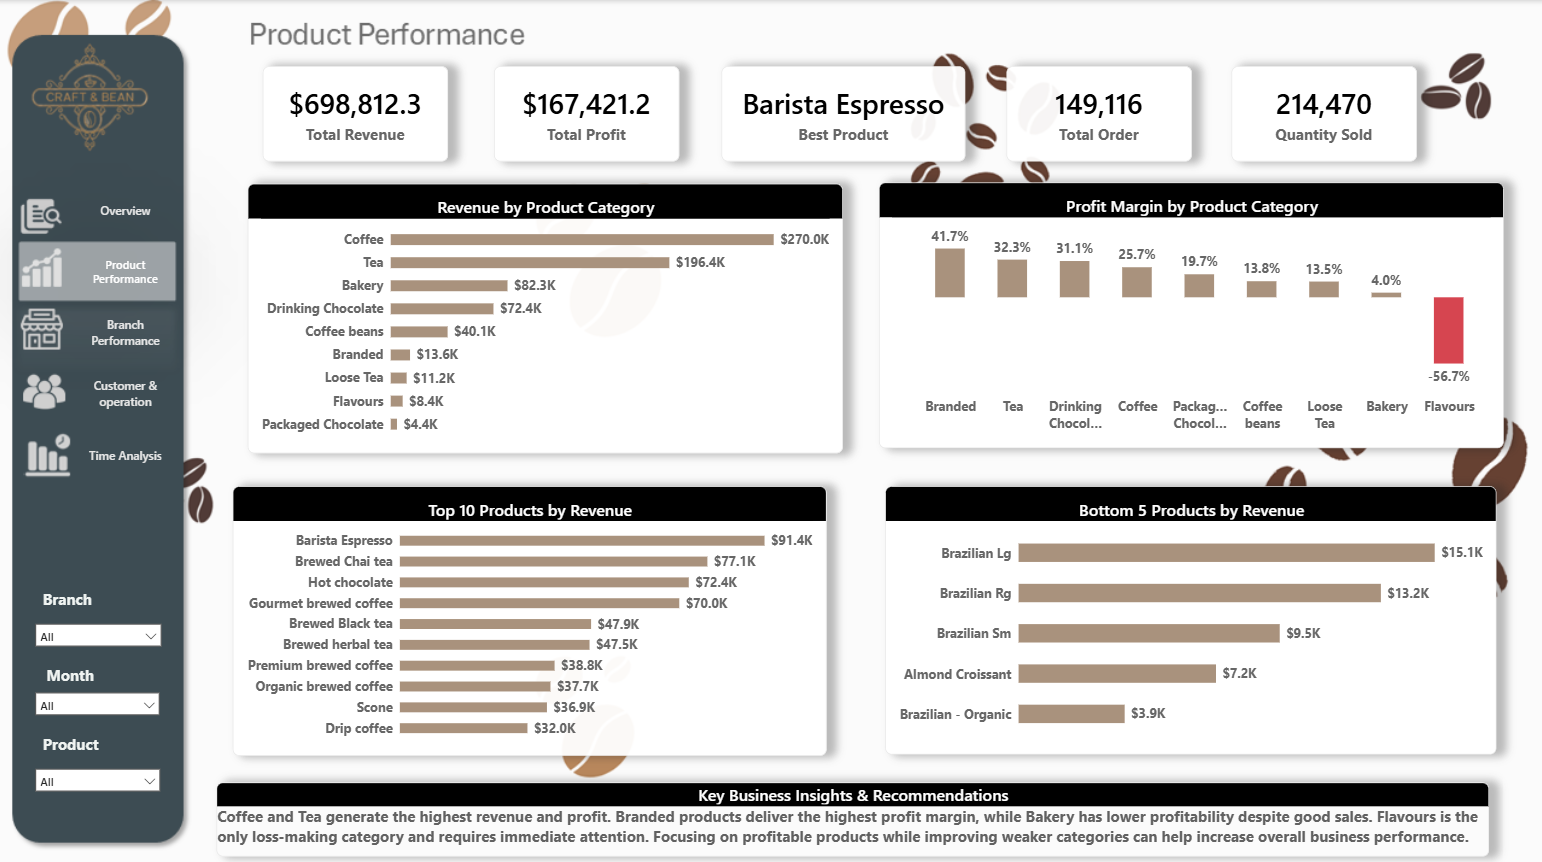

The dashboard page shown, as its layout file describes it:
{"tool":"powerbi","page":{"name":"Product Performance","canvas":[1920,1080],"ordinal":1},"visuals":[{"type":"textbox","box":[58.4,826.7,69.3,30.3],"z":0},{"type":"slicer","fields":{"Values":["coffee_sales.Month Name"]},"box":[41.1,857,164.5,43.3],"z":1000},{"type":"slicer","fields":{"Values":["coffee_sales.product_detail"]},"box":[40.8,951,165,44.2],"z":2000},{"type":"textbox","box":[54.4,911.9,103.8,27.2],"z":3000},{"type":"slicer","fields":{"Values":["coffee_sales.Branch_name"]},"box":[41.1,770.4,166.6,41.1],"z":4000},{"type":"textbox","box":[54.4,731.6,78.3,39.1],"z":5000},{"type":"pageNavigator","box":[91.9,228,131,374.3],"z":6000},{"type":"card","fields":{"Values":["Min(coffee_sales.product_type)"]},"box":[898.3,81.7,303.3,118.3],"z":7000},{"type":"card","fields":{"Values":["Measures_Table.Total Order"]},"box":[1253.3,81.7,230,118.3],"z":8000},{"type":"card","fields":{"Values":["Measures_Table.Total Profit"]},"box":[615,81.7,230,118.3],"z":9000},{"type":"card","fields":{"Values":["Measures_Table.Total Revenue"]},"box":[328.3,81.7,230,118.3],"z":10000},{"type":"card","fields":{"Values":["Measures_Table.Quantity Sold"]},"box":[1533.3,81.7,230,118.3],"z":11000},{"type":"clusteredBarChart","title":"Revenue by Product Category","fields":{"Category":["coffee_sales.product_category"],"Y":["Measures_Table.Total Revenue"]},"box":[309.6,228,740.1,335.2],"z":12000},{"type":"clusteredBarChart","title":"Top 10 Products by Revenue","fields":{"Category":["coffee_sales.product_type"],"Y":["Measures_Table.Total Revenue"]},"box":[290.9,604,738.4,335.2],"z":13000},{"type":"textbox","title":"Key Business Insights & Recommendations","box":[270.5,973.2,1582.2,91.9],"z":14000},{"type":"clusteredColumnChart","title":"Profit Margin by Product Category","fields":{"Category":["coffee_sales.product_category"],"Y":["Measures_Table.Profit Margin %"]},"box":[1093.8,227.4,777,330.3],"z":15000},{"type":"clusteredBarChart","title":"Bottom 5 Products by Revenue","fields":{"Category":["coffee_sales.product_detail"],"Y":["Measures_Table.Total Revenue"]},"box":[1101.6,604.3,760.4,333.9],"z":16000}]}

Visuals, with their boxes on the page's 1920x1080 design canvas (x1, y1, x2, y2). These are canvas units, not pixel positions in the 1542x862 screenshot, which may show the page scaled, cropped or inside an application window:
textbox: bbox=(58, 827, 128, 857)
slicer - coffee_sales.Month Name: bbox=(41, 857, 206, 900)
slicer - coffee_sales.product_detail: bbox=(41, 951, 206, 995)
textbox: bbox=(54, 912, 158, 939)
slicer - coffee_sales.Branch_name: bbox=(41, 770, 208, 812)
textbox: bbox=(54, 732, 133, 771)
pageNavigator: bbox=(92, 228, 223, 602)
card - Min(coffee_sales.product_type): bbox=(898, 82, 1202, 200)
card - Measures_Table.Total Order: bbox=(1253, 82, 1483, 200)
card - Measures_Table.Total Profit: bbox=(615, 82, 845, 200)
card - Measures_Table.Total Revenue: bbox=(328, 82, 558, 200)
card - Measures_Table.Quantity Sold: bbox=(1533, 82, 1763, 200)
"Revenue by Product Category" clusteredBarChart: bbox=(310, 228, 1050, 563)
"Top 10 Products by Revenue" clusteredBarChart: bbox=(291, 604, 1029, 939)
"Key Business Insights & Recommendations" textbox: bbox=(270, 973, 1853, 1065)
"Profit Margin by Product Category" clusteredColumnChart: bbox=(1094, 227, 1871, 558)
"Bottom 5 Products by Revenue" clusteredBarChart: bbox=(1102, 604, 1862, 938)
